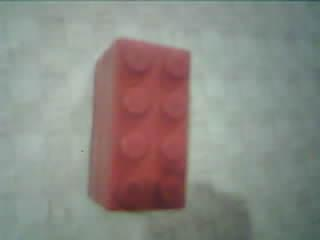lego: (87, 37, 193, 213)
